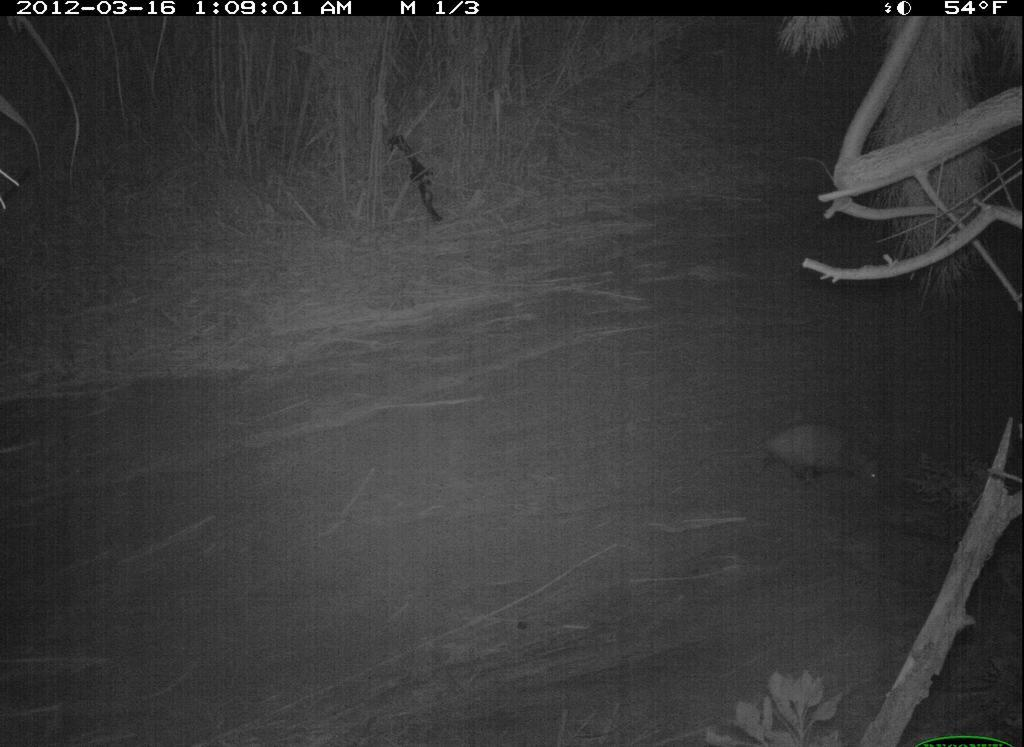opossum: (753, 420, 891, 502)
